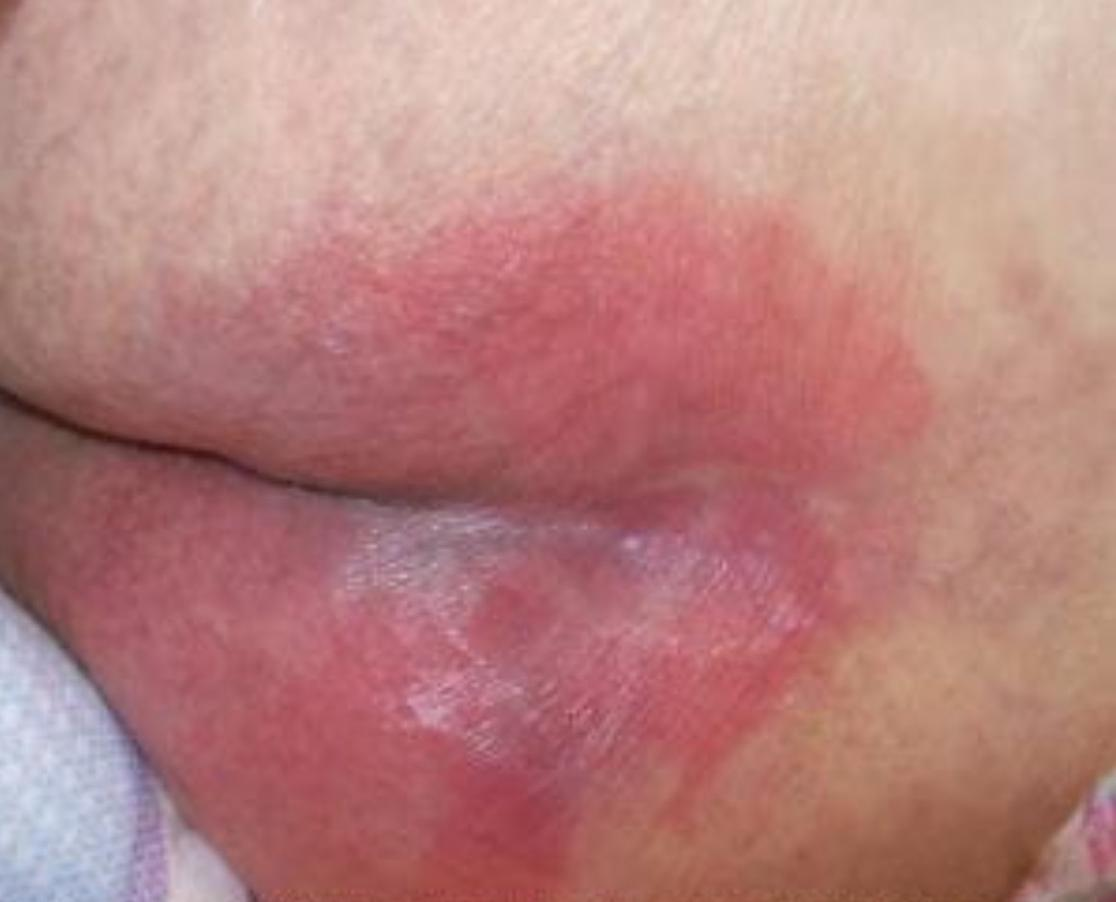Stage1: (28, 130, 989, 894)
